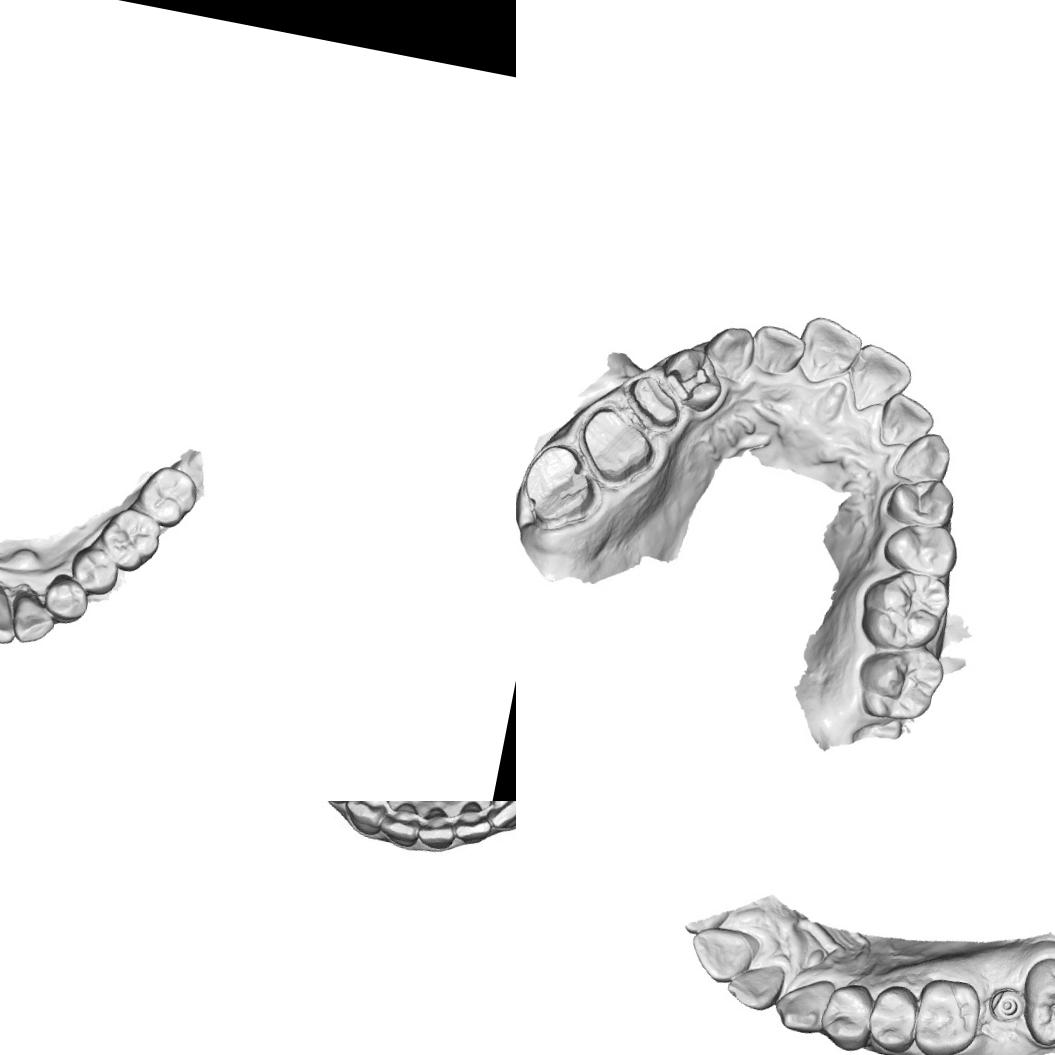canine: (768, 970, 837, 1038), (890, 426, 954, 489), (697, 320, 758, 384), (8, 592, 60, 649), (341, 801, 392, 835)
crown: (516, 437, 610, 539), (566, 397, 664, 494), (617, 369, 687, 436)
implant: (986, 984, 1025, 1026)
incisor: (791, 312, 866, 390), (842, 340, 916, 418), (684, 922, 758, 989), (873, 388, 939, 456), (722, 953, 788, 1014), (746, 321, 809, 379), (380, 803, 425, 852), (452, 802, 496, 848), (423, 808, 458, 846), (0, 588, 21, 646), (484, 801, 516, 828)
inlay: (659, 358, 713, 408)
molar: (855, 562, 953, 658), (851, 634, 949, 728), (905, 971, 986, 1055), (94, 503, 166, 576), (130, 460, 202, 532), (1013, 952, 1055, 1052)
premolar: (878, 514, 962, 582), (814, 977, 880, 1054), (882, 470, 958, 532), (862, 978, 923, 1055), (65, 543, 122, 598), (40, 573, 92, 623)
